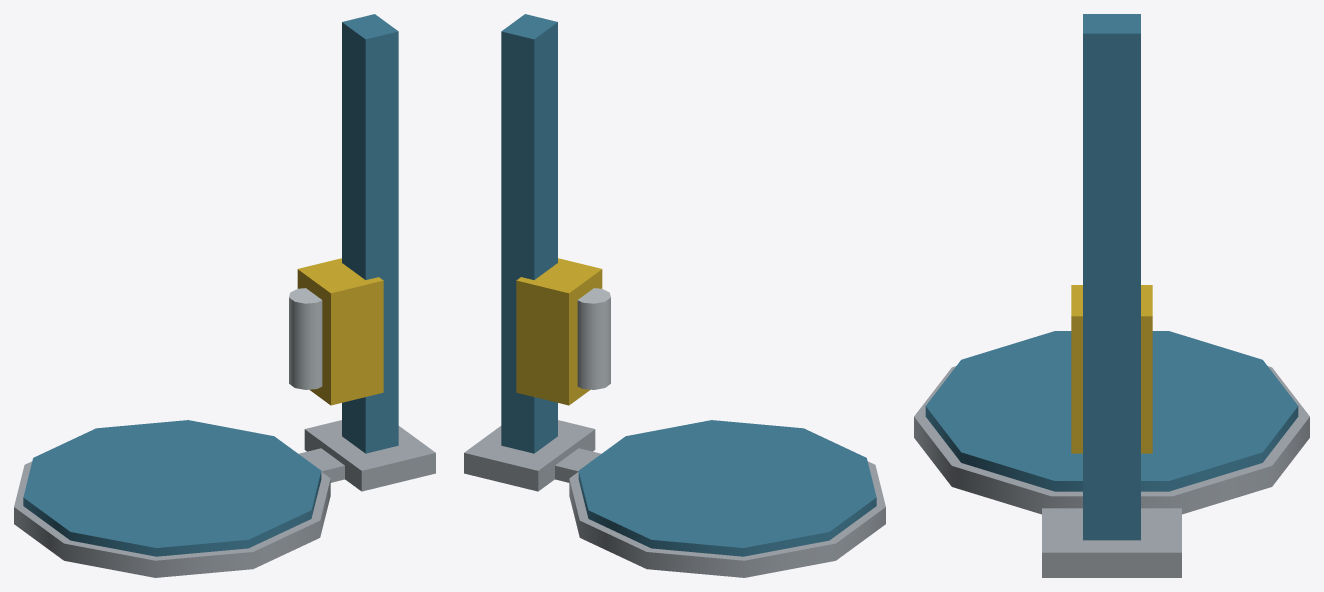
The picture shows the model from 3 angles, left to right: view 1: azimuth 30°, elevation 25°; view 2: azimuth 150°, elevation 25°; view 3: azimuth 270°, elevation 25°; orthographic projection. The views are drawn at different scales.
Visible parts, largest first — view 1: turntable, mast, carriage, base, mastFoot, filmRoll, link; view 2: turntable, mast, carriage, base, mastFoot, filmRoll, link; view 3: turntable, mast, base, mastFoot, carriage.
Boxes of the visible parts, x1,y1,x2,y2 form: turntable: (23, 420, 321, 556); mast: (342, 14, 398, 453); carriage: (297, 258, 383, 405); base: (14, 461, 330, 577); mastFoot: (304, 420, 435, 491); filmRoll: (289, 288, 322, 389); link: (298, 448, 344, 482); turntable: (578, 420, 876, 556); mast: (501, 14, 557, 453); carriage: (516, 258, 602, 405); base: (569, 461, 885, 577); mastFoot: (464, 420, 595, 491); filmRoll: (577, 288, 610, 389); link: (555, 448, 601, 482); turntable: (925, 331, 1298, 491); mast: (1083, 14, 1140, 540); base: (914, 366, 1309, 514); mastFoot: (1042, 508, 1181, 577); carriage: (1071, 285, 1152, 453).
Size of the model in its own units: 2.23 by 2.52 by 1.7.
